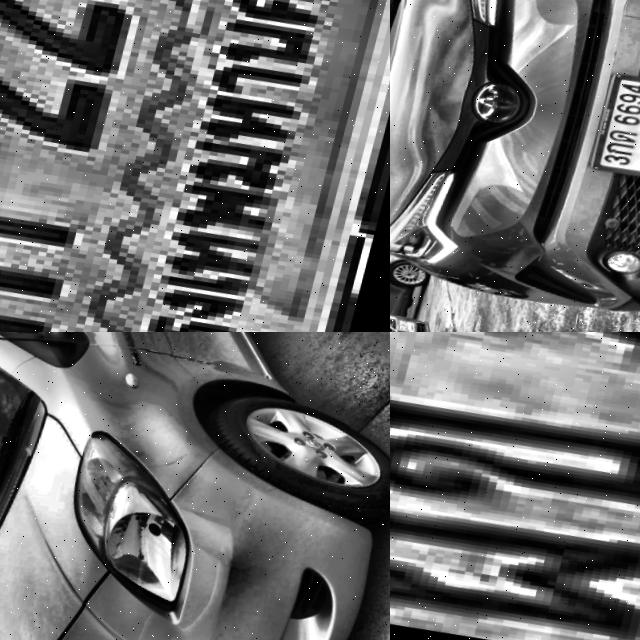license-plate: (0, 0, 390, 332), (390, 332, 640, 640), (590, 72, 640, 188), (401, 317, 430, 332)
